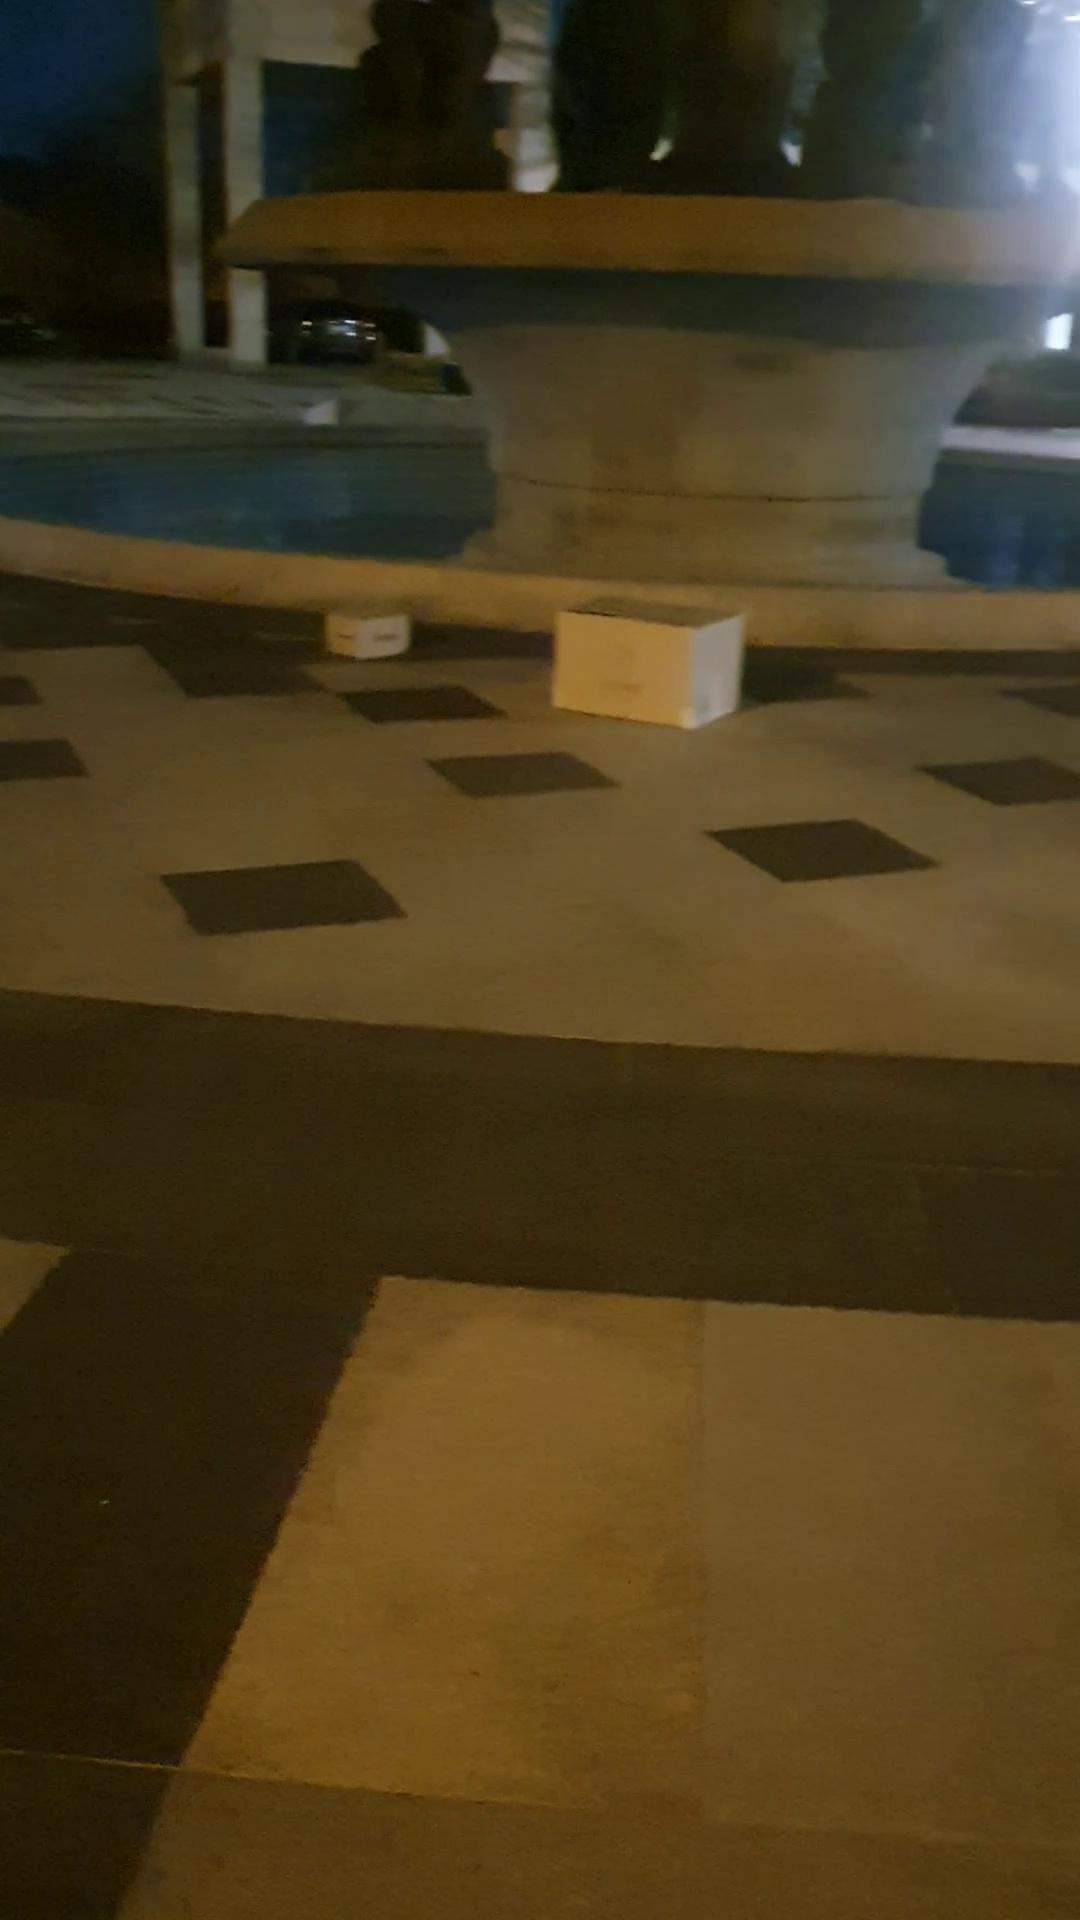Box: (546, 588, 767, 745), (316, 585, 419, 670)
